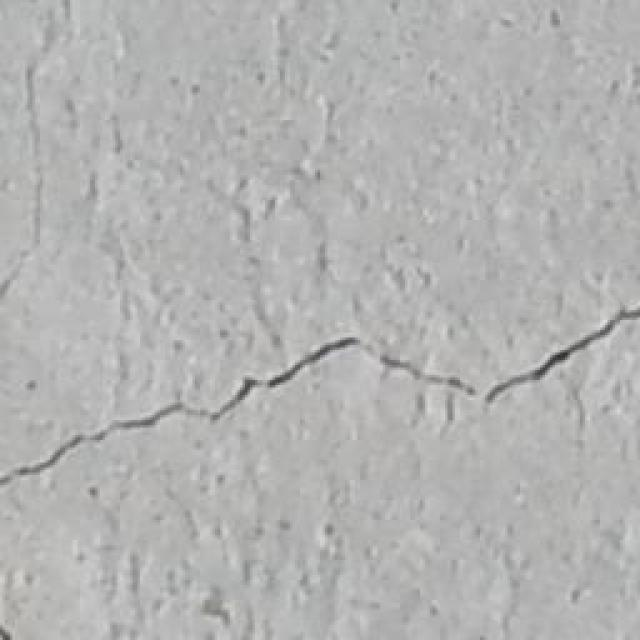concrete-crack: (0, 302, 639, 481)
